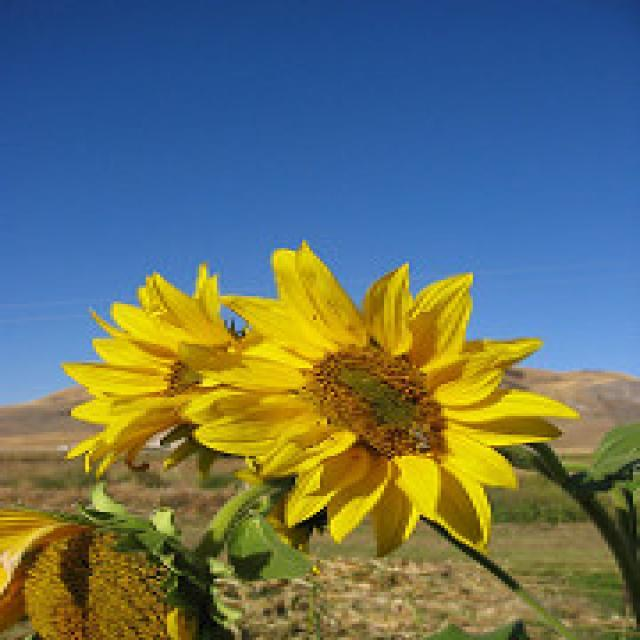sunflower: (178, 244, 578, 554), (64, 263, 241, 475), (0, 514, 186, 640), (240, 473, 305, 549)
